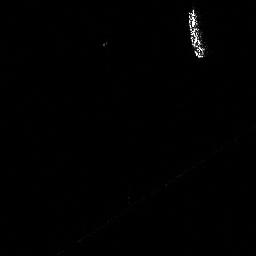ship: (183, 6, 210, 60)
